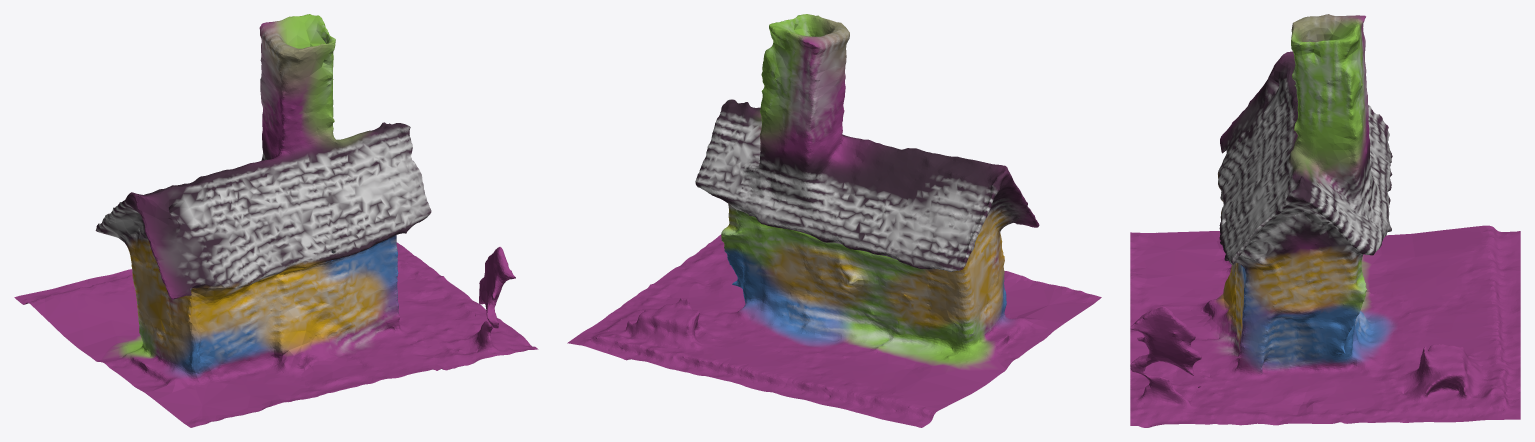
File: color_191108_akt1_1.glb
3 views of the same model, side by side, from view 1: azimuth 30°, elevation 25°; view 2: azimuth 150°, elevation 25°; view 3: azimuth 270°, elevation 25° (orthographic). The views are drawn at different scales.
Parts seen in each view (by area): view 1: base_191108_akt1; view 2: base_191108_akt1; view 3: base_191108_akt1.
Part boxes in pixels (box(x1,y1,x2,y2)): base_191108_akt1: box(14, 14, 538, 427); base_191108_akt1: box(567, 14, 1101, 427); base_191108_akt1: box(1130, 14, 1520, 427).
Bounding box in the file's own units: 7.35 × 5.95 × 6.48.
